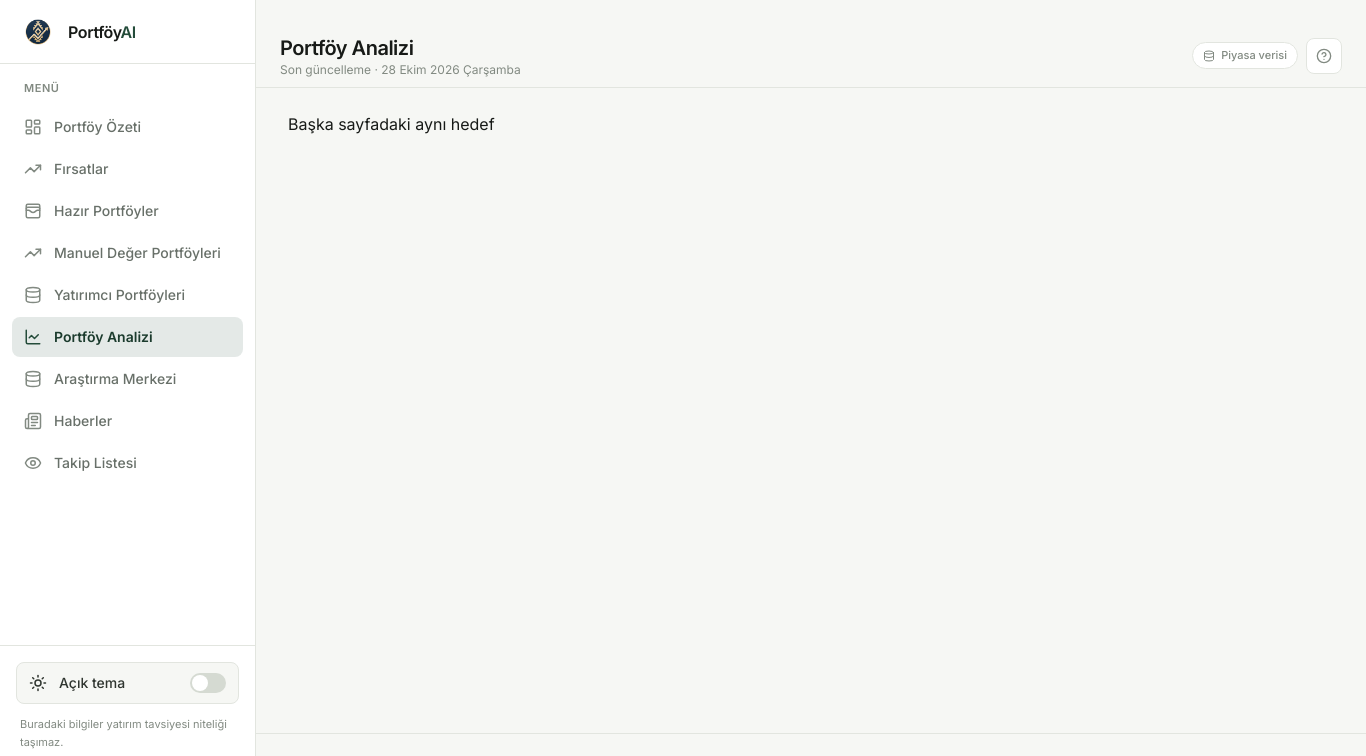
Test: tanıtım geçişleri › formu ve gelişmiş bölümü açar; ileri ve geri sayfa geçişlerinde hedefi yeniden hazırlar
Click the button named "Site tanıtım turunu başlat".
click(1324, 56)  # box top-left (1306, 38), bottom-right (1342, 74)
Wait 200 ms
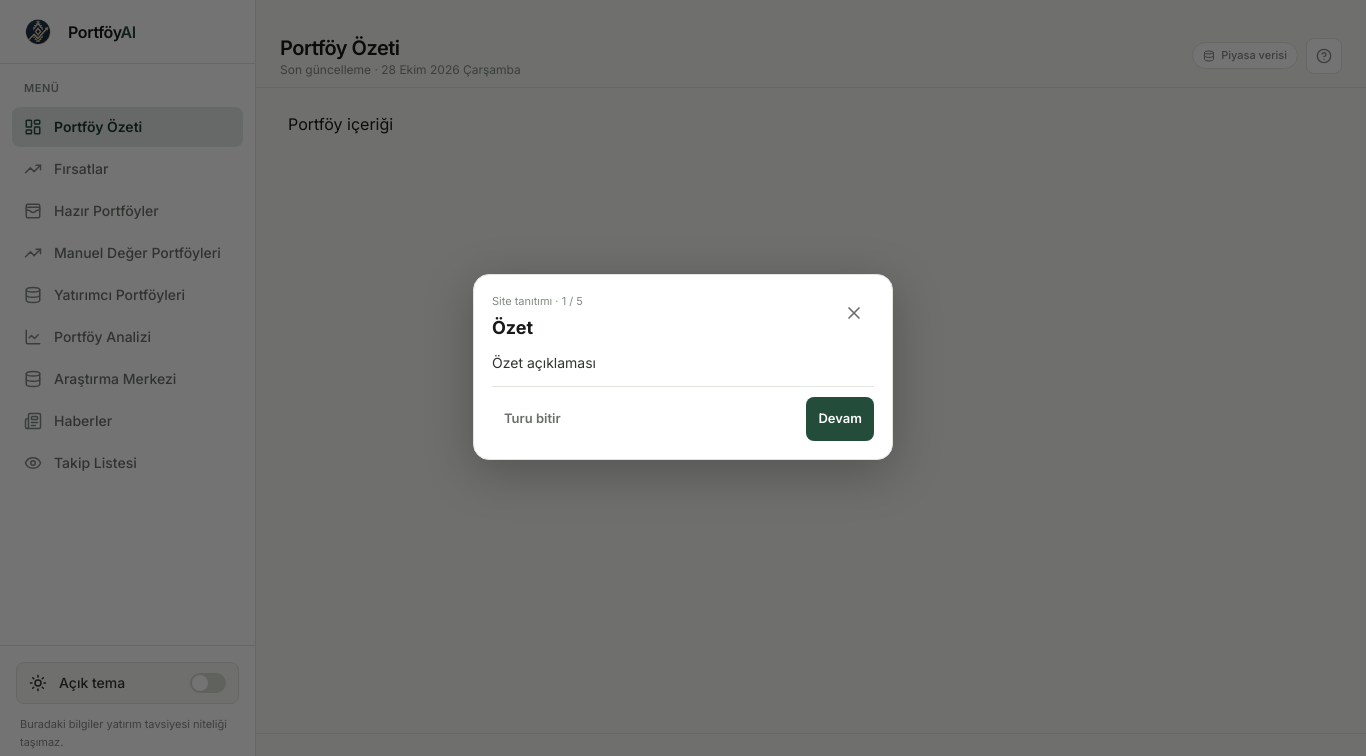
Click the button "Devam".
click(840, 419)  # box top-left (806, 397), bottom-right (874, 441)
Wait 200 ms
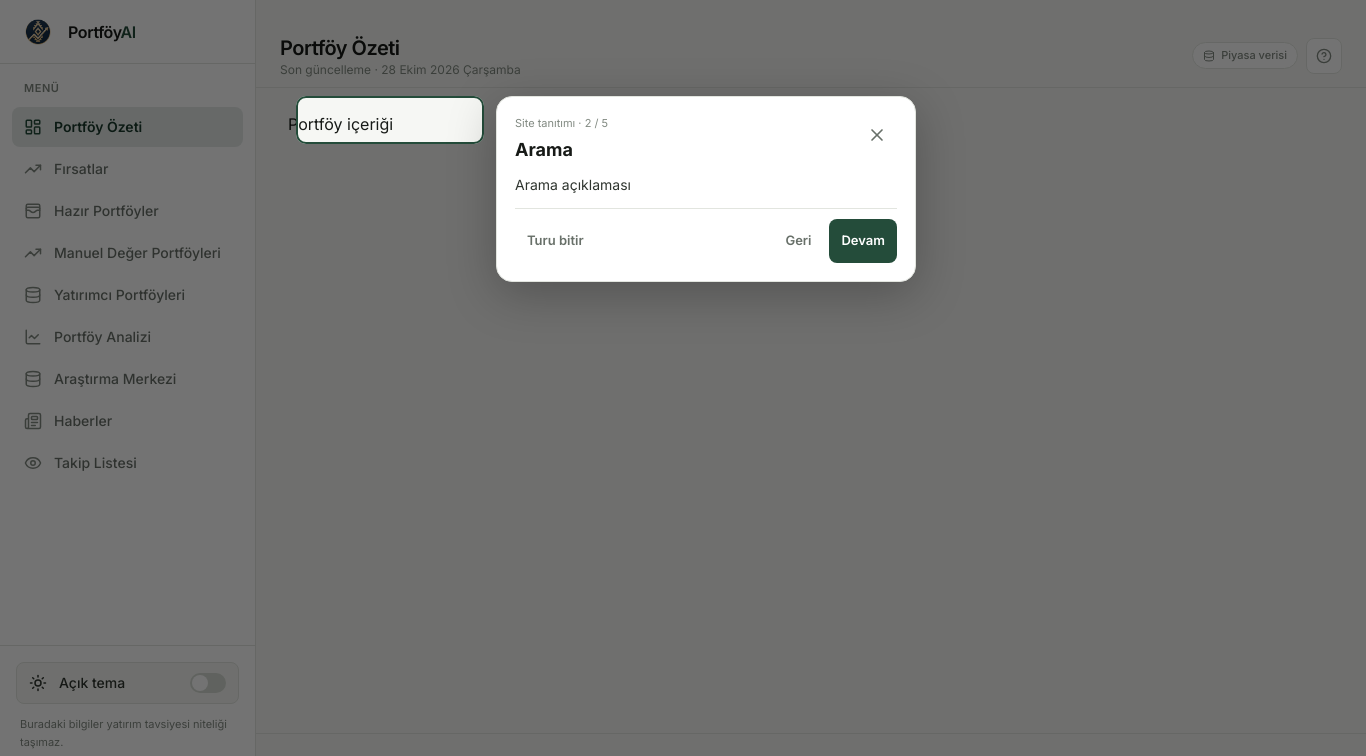
Click the button "Devam".
click(863, 241)  # box top-left (830, 219), bottom-right (897, 263)
Wait 200 ms
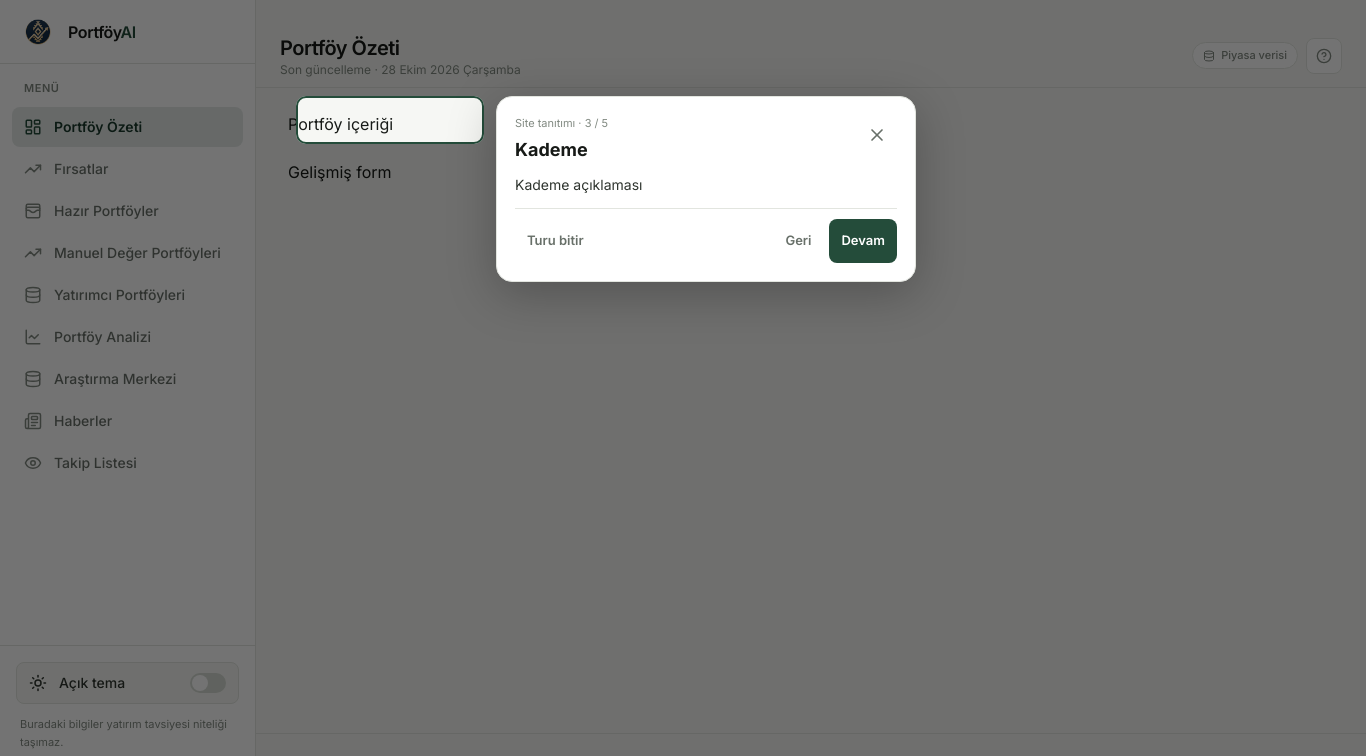
Result: the text "Gelişmiş form" is shown at top-left (288, 162), bottom-right (392, 182)
Click the button "Devam".
click(863, 241)  # box top-left (830, 219), bottom-right (897, 263)
Wait 200 ms
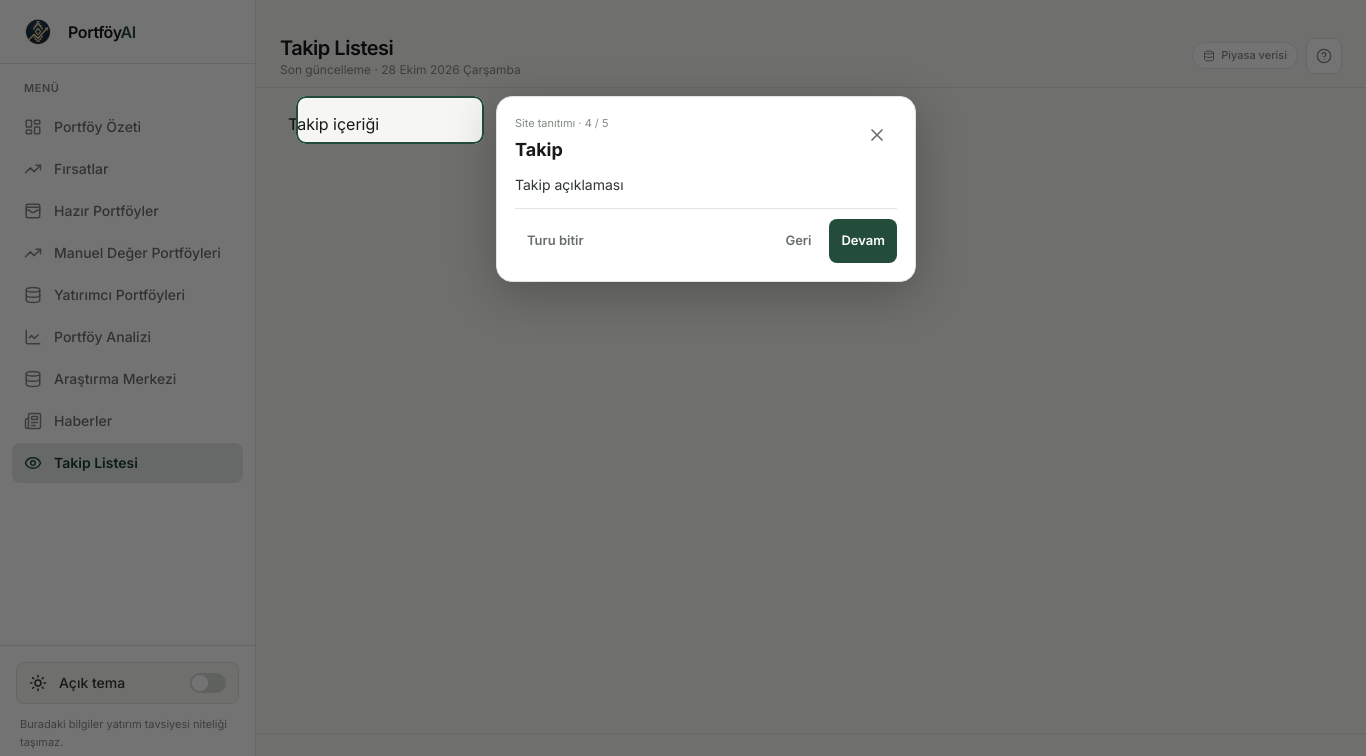
Expected: the text with test id "location" reads "/watchlist", top-left (0, 2), bottom-right (73, 22)
Click the button "Geri".
click(798, 241)  # box top-left (773, 219), bottom-right (824, 263)
Wait 200 ms
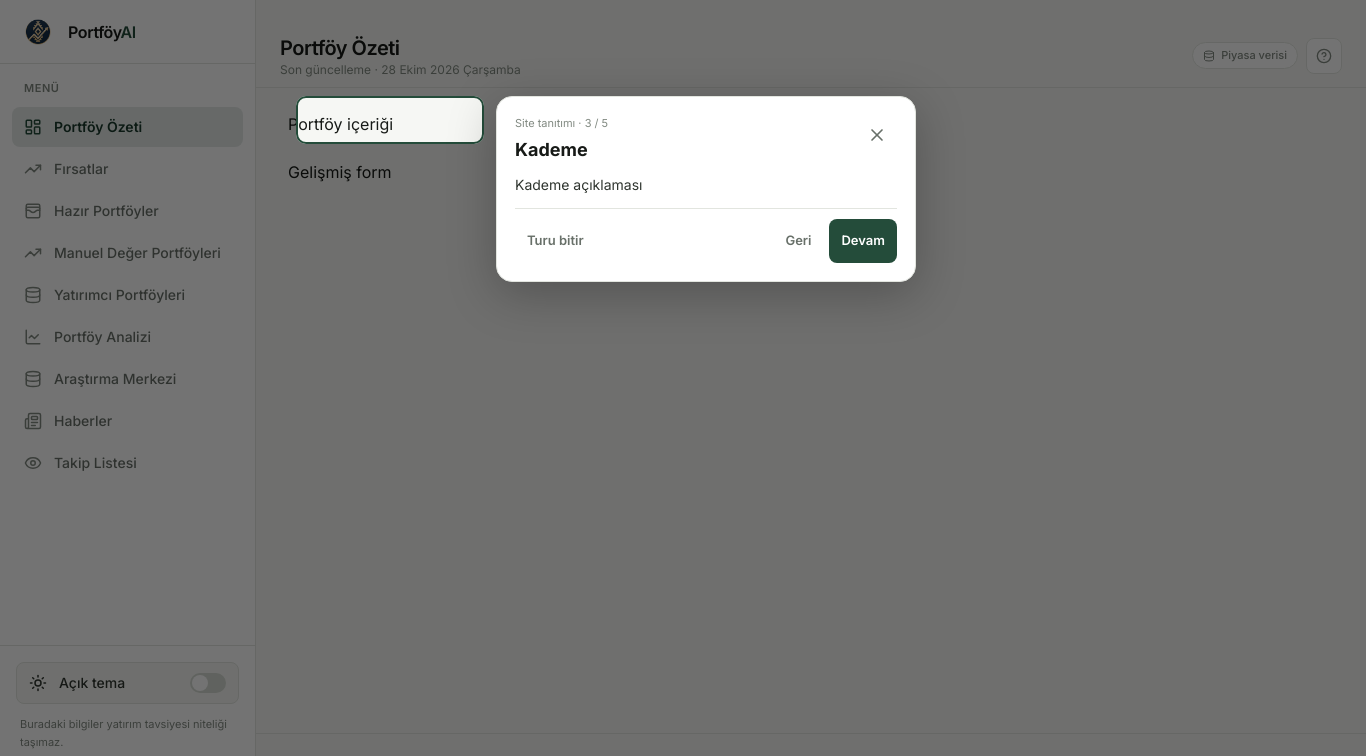
Expected: the text with test id "location" reads "/portfolio", top-left (0, 2), bottom-right (69, 22)
Result: the text "Gelişmiş form" is shown at top-left (288, 162), bottom-right (392, 182)
Click the button "Geri".
click(798, 241)  # box top-left (773, 219), bottom-right (824, 263)
Wait 200 ms
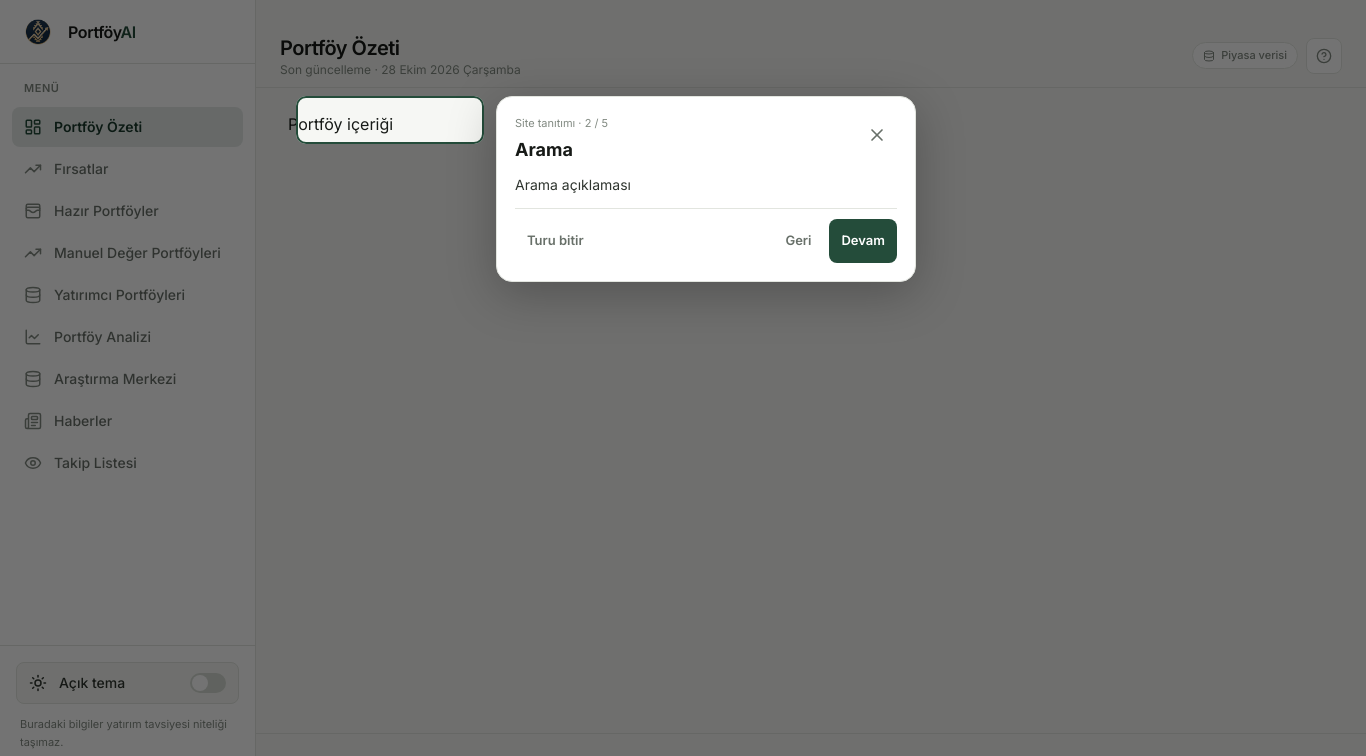
Result: the field named "Hisse ara" is shown at top-left (288, 136), bottom-right (522, 160)
Result: the text "Gelişmiş form" is gone
